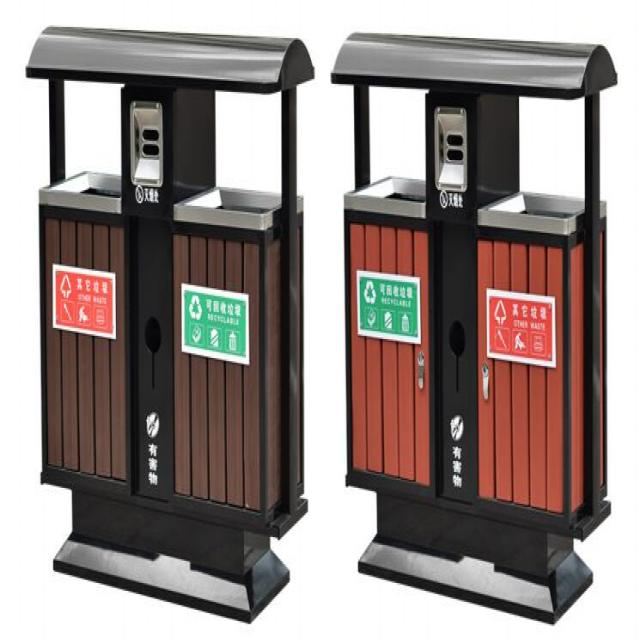ash bin: (27, 19, 320, 623), (329, 22, 621, 626)
